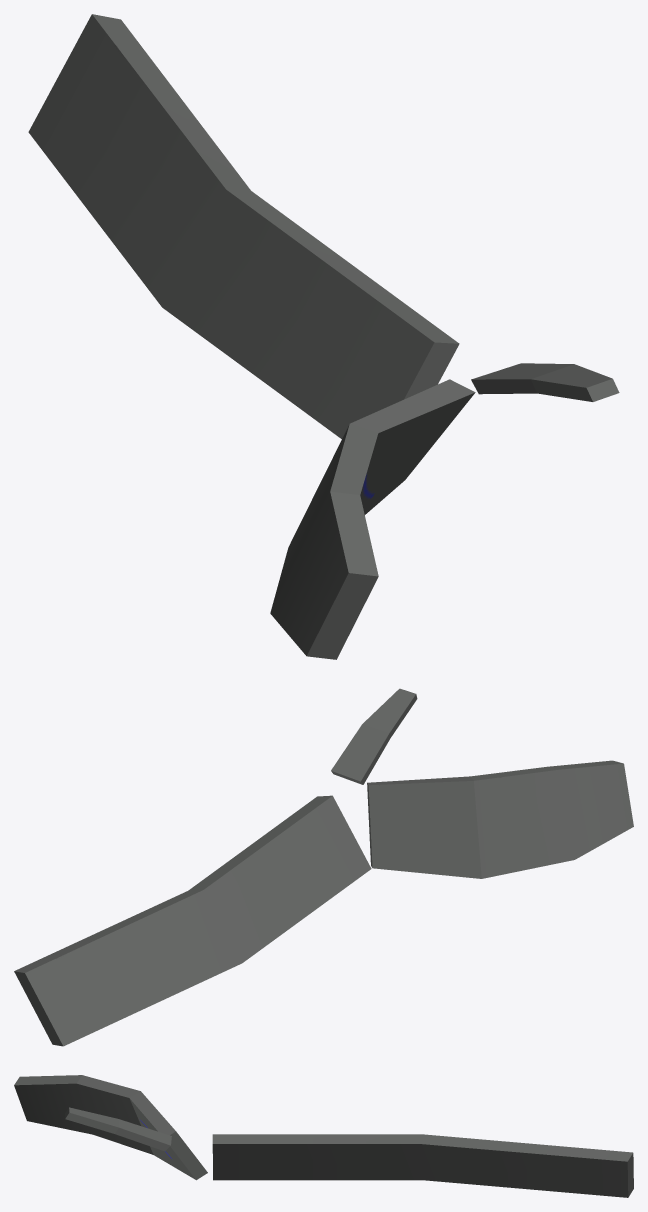
Rendered from ArmRight.fbx.
The picture shows the model from 3 angles, top to bottom: view 1: azimuth 30°, elevation 25°; view 2: azimuth 150°, elevation 25°; view 3: azimuth 270°, elevation 25°; orthographic projection. The views are drawn at different scales.
Parts seen in each view (by area): view 1: root; view 2: root; view 3: root.
Part boxes in pixels (box(x1,y1,x2,y2)): root: box(28, 14, 619, 659); root: box(14, 688, 633, 1046); root: box(14, 1075, 633, 1197).
Size of the model in its own units: 0.512 by 0.2249 by 1.34.
Materials: 1 (1 with a texture image).
